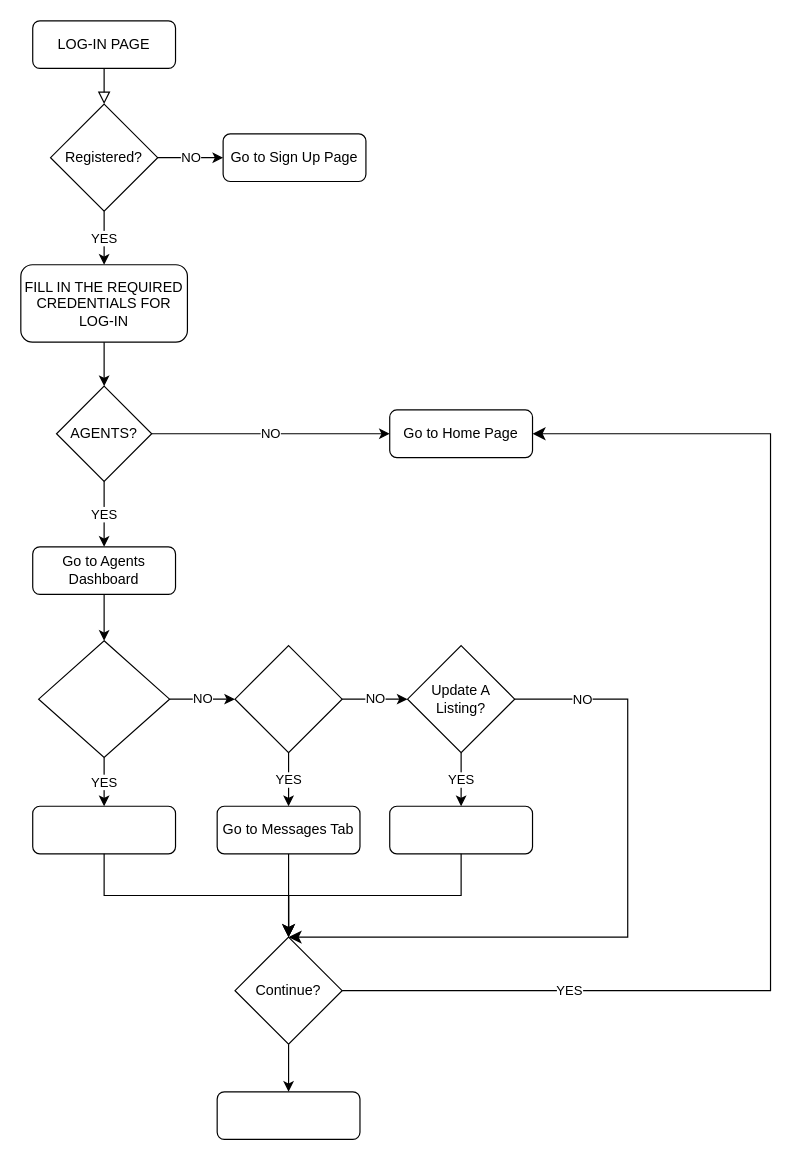
Image size: 803x1160. Some labels were removed from this diagram. Here are the shapes that lost their labels. From the top down, the centre of each, then its label:
At (x=103, y=698): "POST A NEW LISTING?".
At (x=288, y=698): "Check Messages?".
At (x=104, y=829): "Go to Add New Listing Tab".
At (x=461, y=829): "Go to Update Tab".
At (x=288, y=1115): "LOG OUT".
